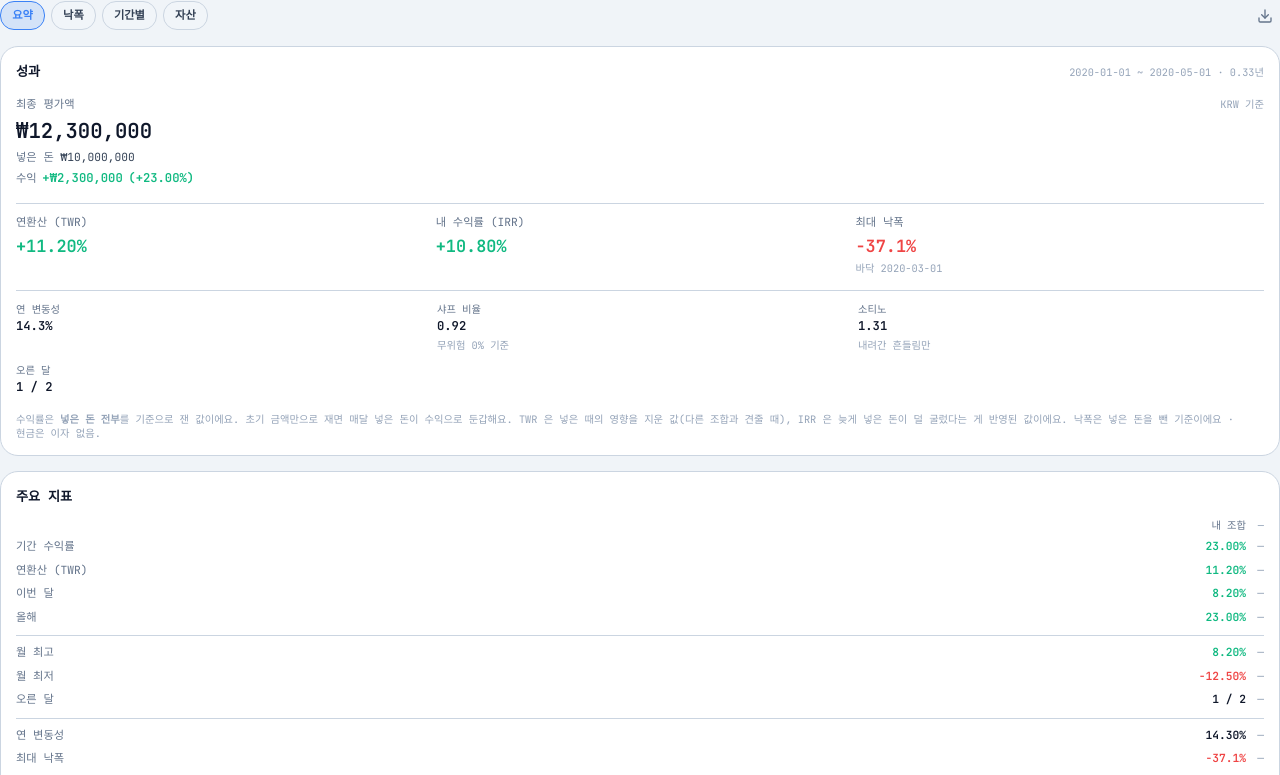
Test: 낙폭 › 낙폭 그래프를 그린다
The width and height of the screenshot is (1280, 775).
Click the tab "낙폭".
click(73, 16)  # box [51,1,96,30]
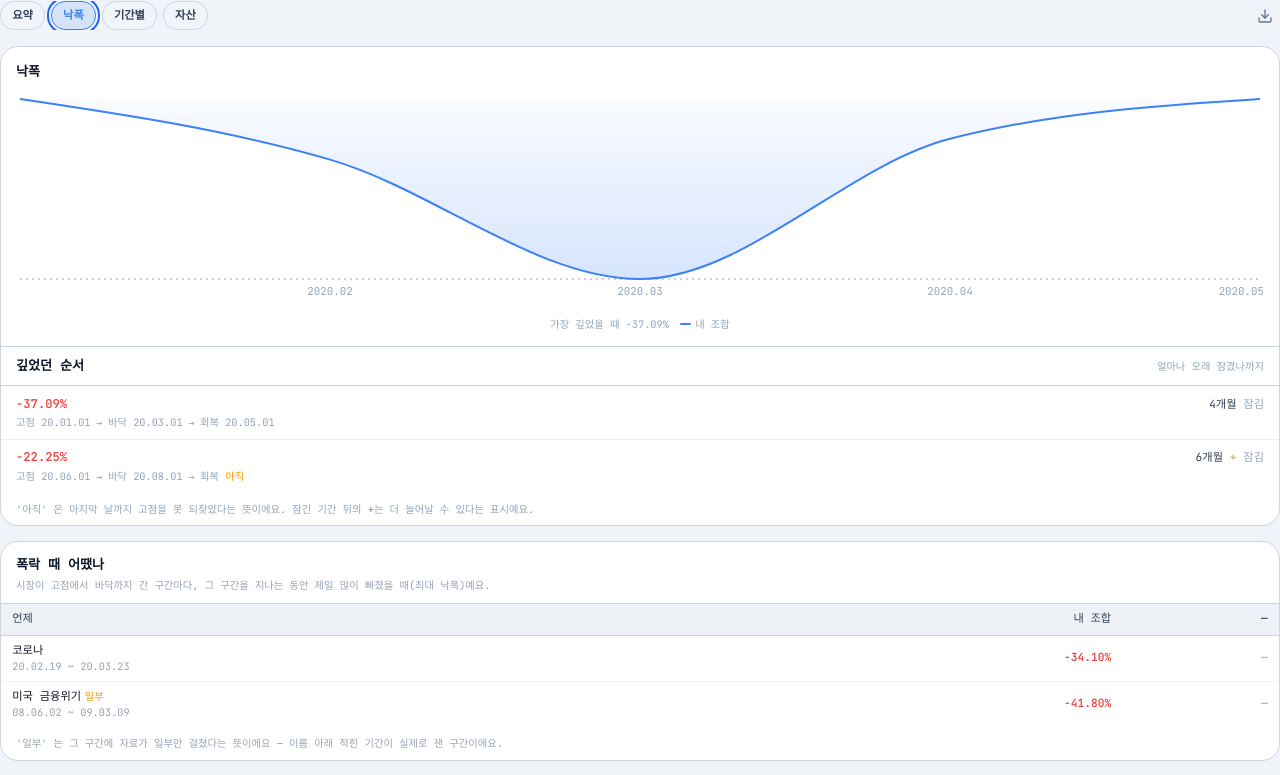
Now the text "낙폭" is shown, box [16,62,40,82]
